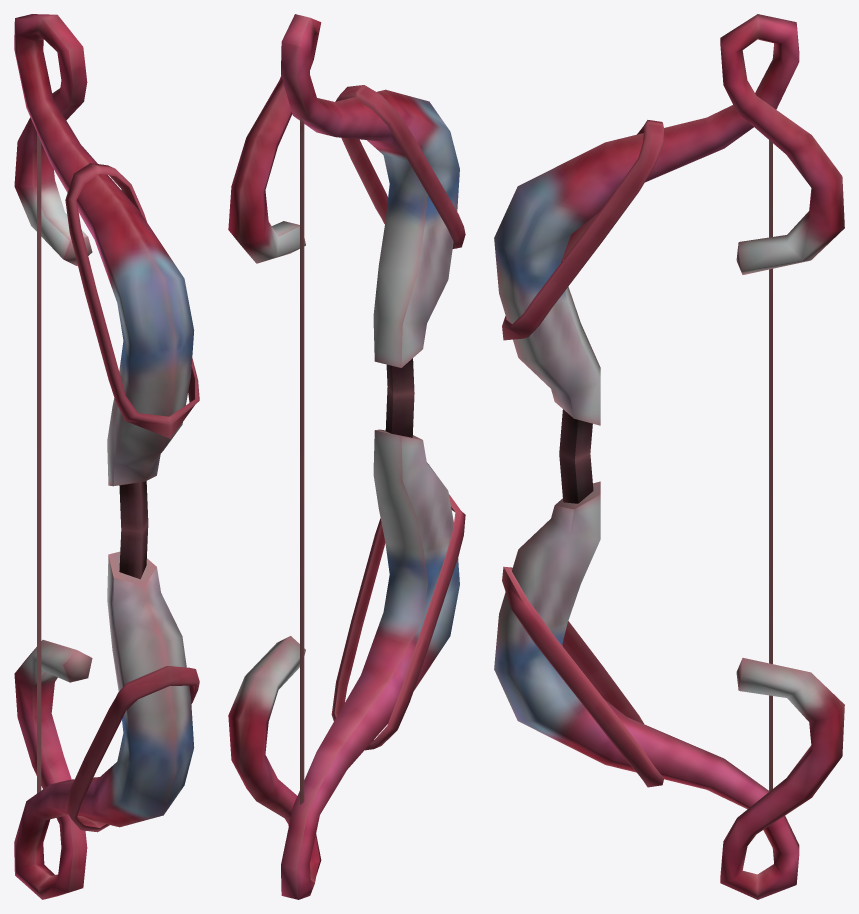
Rendered from bdBow.glb.
The picture shows the model from 3 angles, left to right: view 1: azimuth 30°, elevation 25°; view 2: azimuth 150°, elevation 25°; view 3: azimuth 270°, elevation 25°; orthographic projection.
Visible parts, largest first — view 1: bow; view 2: bow; view 3: bow.
Boxes of the visible parts, x1,y1,x2,y2 form: bow: [14, 14, 199, 899]; bow: [228, 14, 465, 899]; bow: [494, 14, 844, 899].
Size of the model in its own units: 0.119 by 1.2 by 0.4351.
Materials: 1 (1 with a texture image).
